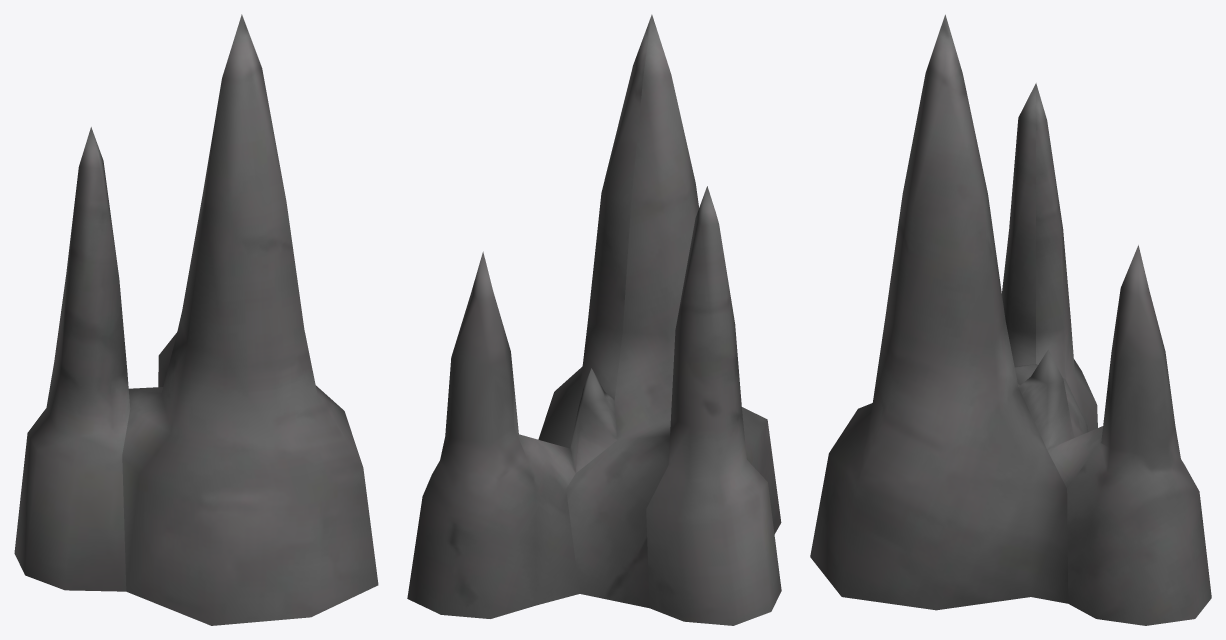
3 renders of one model, left to right at view 1: azimuth 30°, elevation 25°; view 2: azimuth 150°, elevation 25°; view 3: azimuth 270°, elevation 25°, orthographic. The views are drawn at different scales.
Parts seen in each view (by area): view 1: body0_model0_lod0_mesh0; view 2: body0_model0_lod0_mesh0; view 3: body0_model0_lod0_mesh0.
Boxes of the visible parts, <box> form: body0_model0_lod0_mesh0: <box>14,14,378,625</box>; body0_model0_lod0_mesh0: <box>407,14,781,625</box>; body0_model0_lod0_mesh0: <box>810,14,1211,625</box>.
Size of the model in its own units: 222 by 372 by 249.
1 material, 1 textured.
